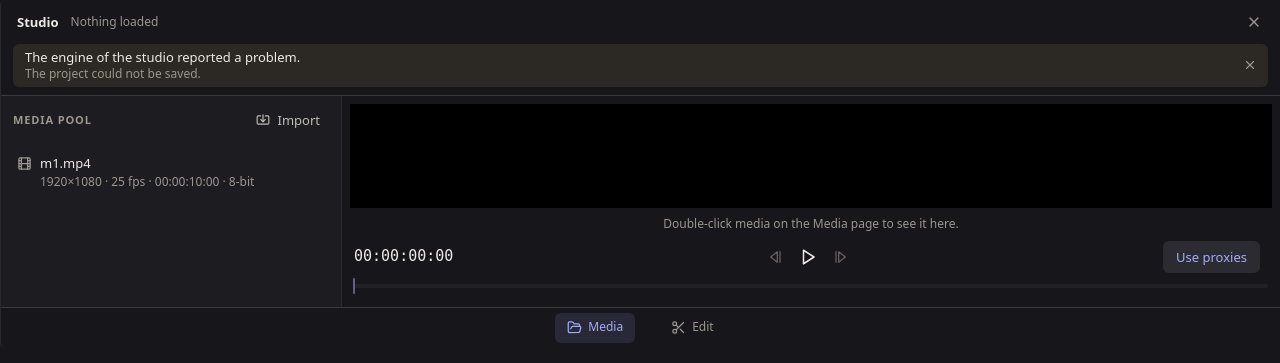
Test: the media pool › says what the engine said by itself until it is put away, and again when it says something else
Expected: the text "The engine of the studio reported a problem." is shown, [25,48,300,66]
Expected: the text "The project could not be saved." is shown, [25,65,201,82]
Click the button named "Close". click: (1250, 66)
box: [1236,52,1264,80]
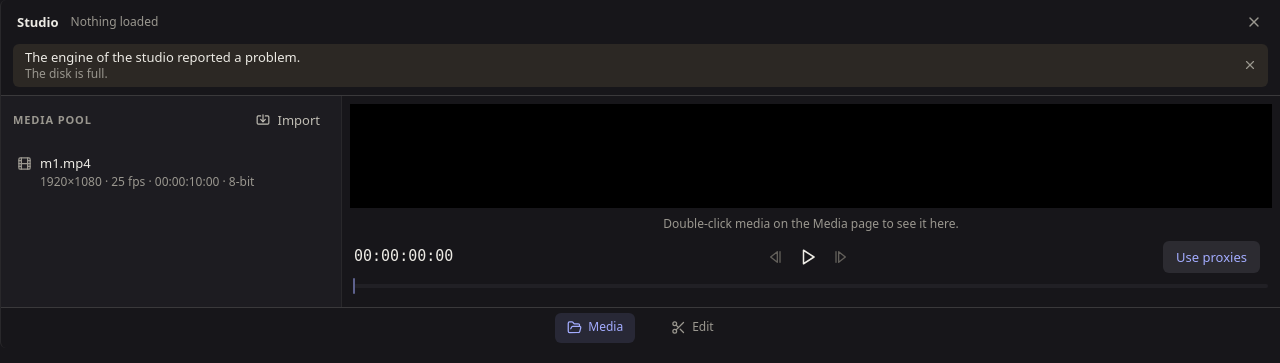
Now the text "The disk is full." is shown, box [25,65,108,82]
